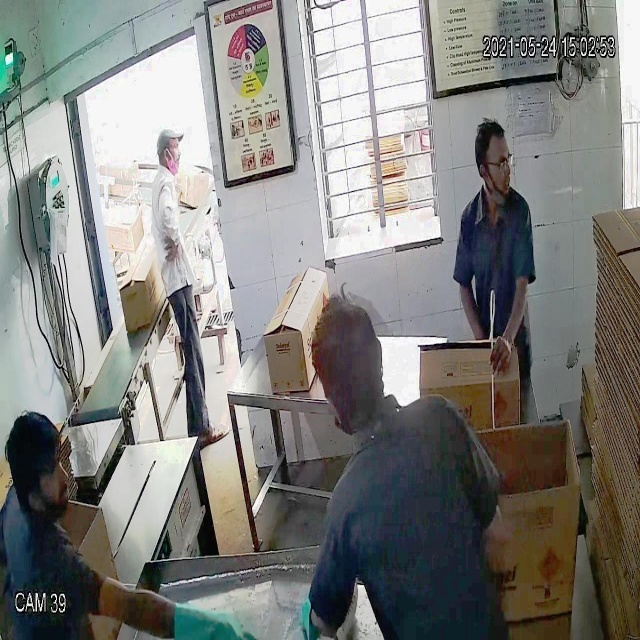Gafas: (471, 148, 519, 183)
